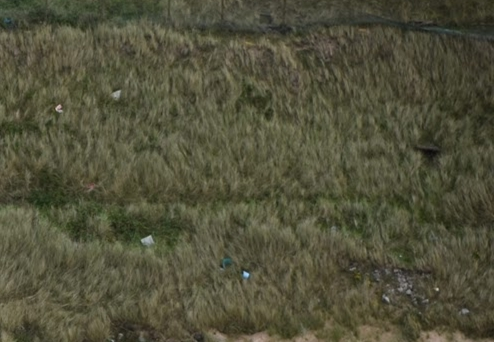scattered_barrel: (38, 77, 275, 287)
